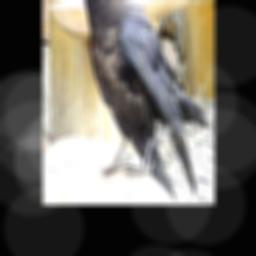Crow: (63, 0, 208, 198)
